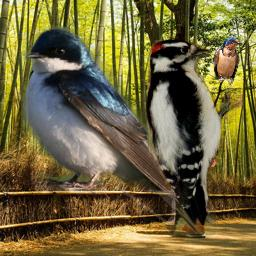Swallow: (21, 26, 216, 245), (213, 37, 241, 86)
Woodpecker: (147, 39, 244, 225)
